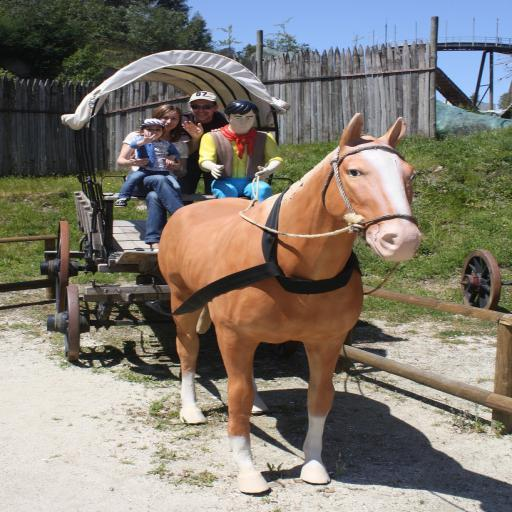Horse: (160, 112, 426, 496)
